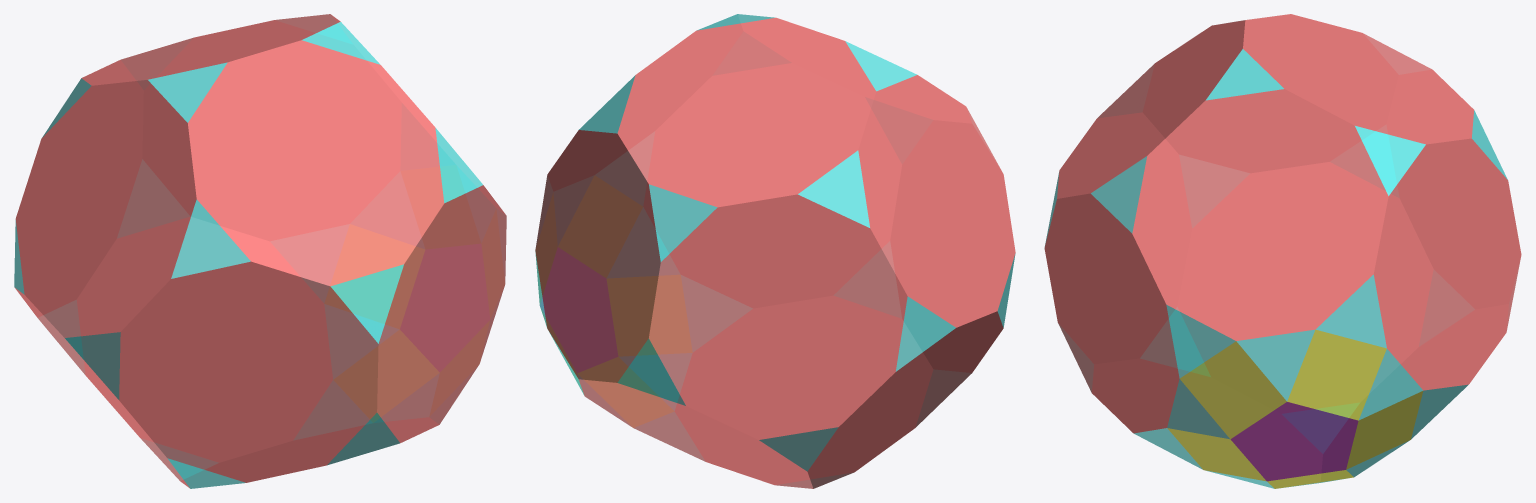
Rendered from j68_augmented_truncated_dodecahedron.obj.
The picture shows the model from 3 angles, left to right: view 1: azimuth 30°, elevation 25°; view 2: azimuth 150°, elevation 25°; view 3: azimuth 270°, elevation 25°; orthographic projection. The views are drawn at different scales.
Size of the model in its own units: 2.02 by 1.96 by 2.
